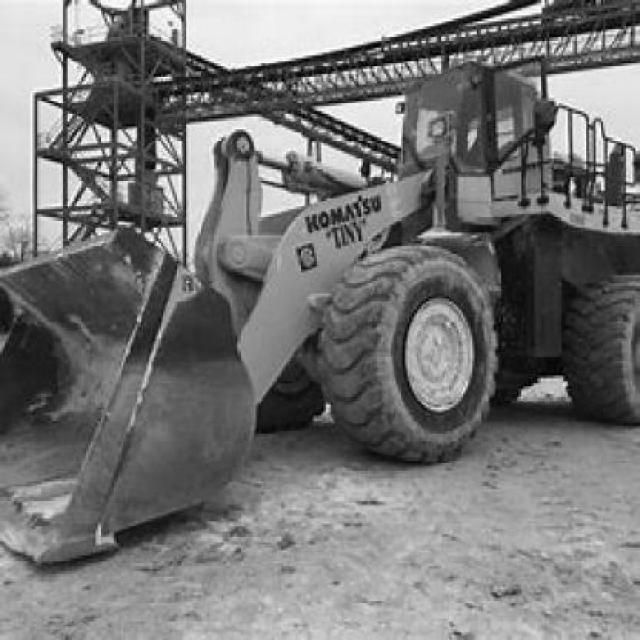Construction Equipment: (0, 60, 640, 568)
